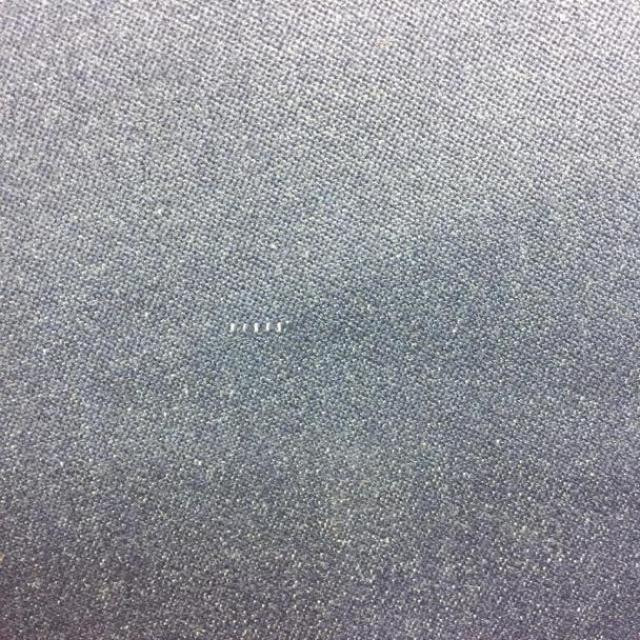Knot: (228, 321, 285, 336)
